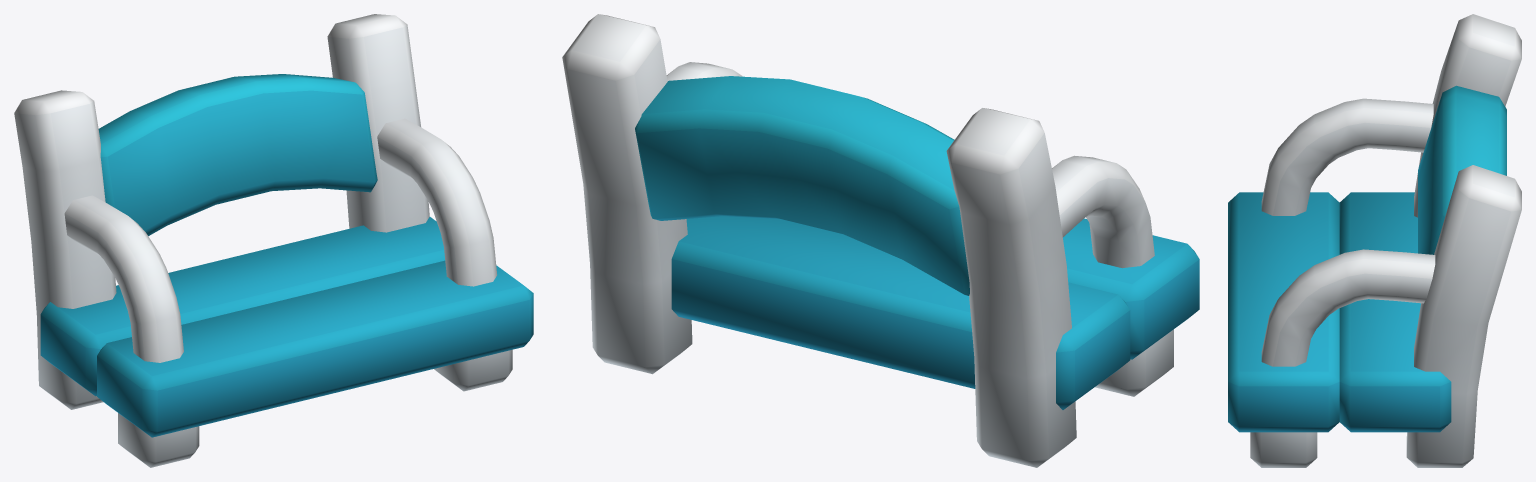
File: Bench A.glb
The picture shows the model from 3 angles, left to right: view 1: azimuth 30°, elevation 25°; view 2: azimuth 150°, elevation 25°; view 3: azimuth 270°, elevation 25°; orthographic projection. The views are drawn at different scales.
Visible parts, largest first — view 1: bench_A; view 2: bench_A; view 3: bench_A.
Boxes of the visible parts, x1,y1,x2,y2 form: bench_A: (14, 14, 533, 467); bench_A: (562, 14, 1199, 467); bench_A: (1228, 14, 1521, 467).
Size of the model in its own units: 2 by 1.41 by 1.32.
1 material, 1 textured.
